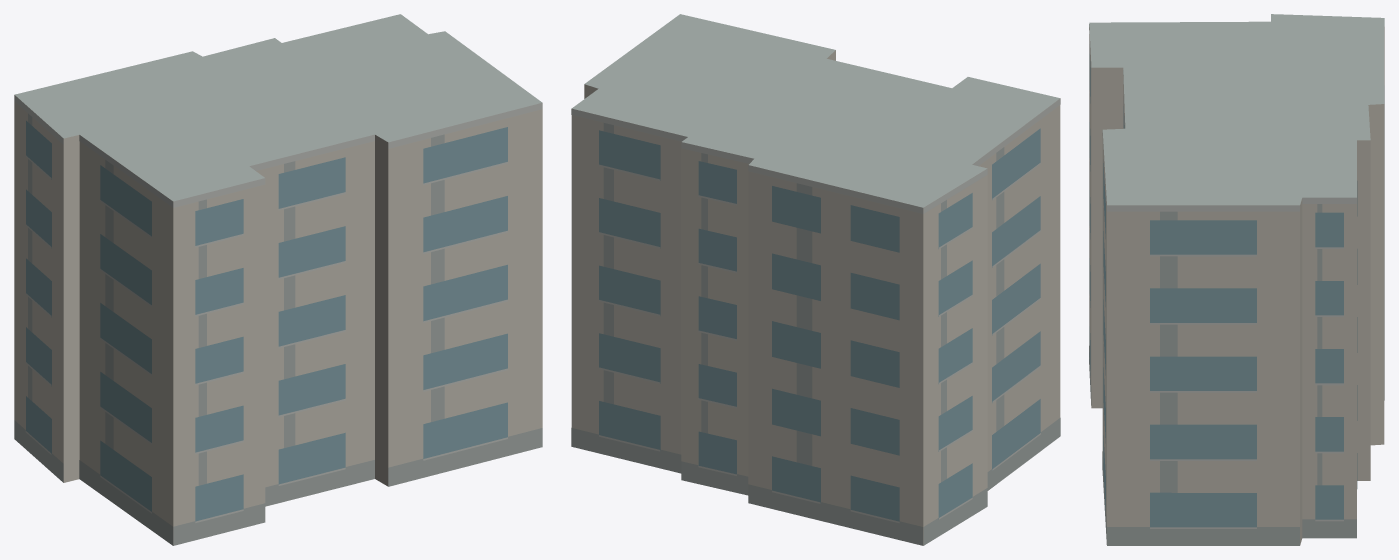
The model's file is survey-upis-32564697.glb.
3 views of the same model, side by side, from view 1: azimuth 30°, elevation 25°; view 2: azimuth 150°, elevation 25°; view 3: azimuth 270°, elevation 25° (orthographic).
Visible parts, largest first — view 1: survey-upis-32564697.tmp; view 2: survey-upis-32564697.tmp; view 3: survey-upis-32564697.tmp.
Boxes of the visible parts, x1,y1,x2,y2 form: survey-upis-32564697.tmp: (14,14,542,545); survey-upis-32564697.tmp: (571,14,1060,545); survey-upis-32564697.tmp: (1089,14,1384,545).
Size of the model in its own units: 15.67 by 13 by 10.23.
